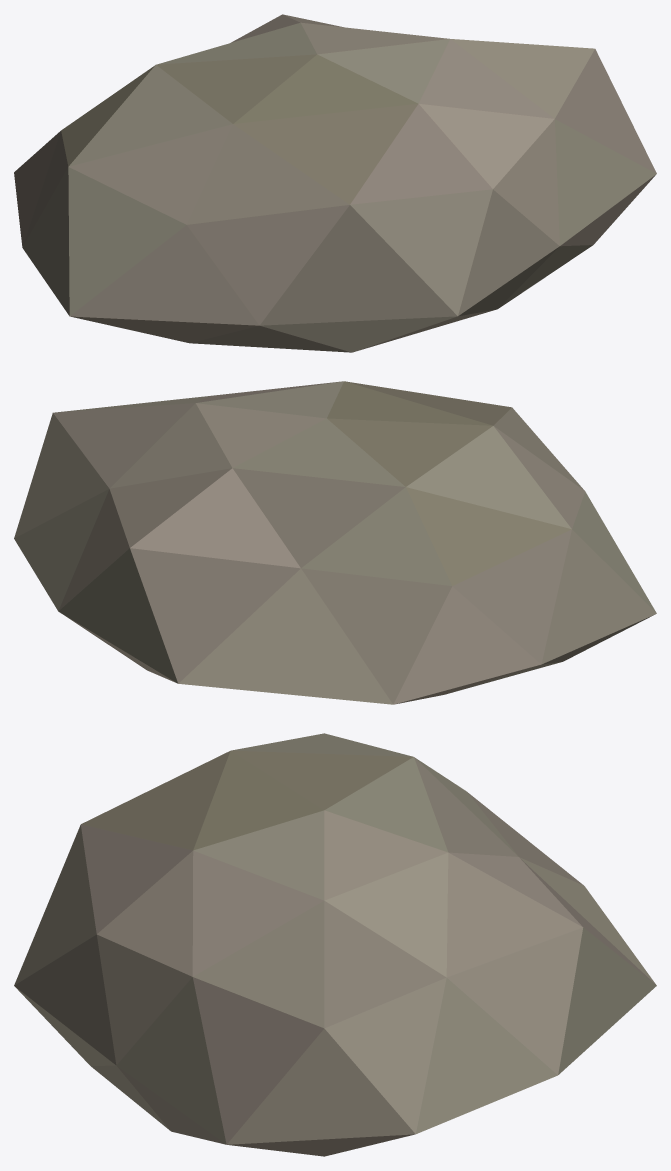
File: env_limestone_a.glb
The picture shows the model from 3 angles, top to bottom: view 1: azimuth 30°, elevation 25°; view 2: azimuth 150°, elevation 25°; view 3: azimuth 270°, elevation 25°; orthographic projection. The views are drawn at different scales.
Parts seen in each view (by area): view 1: env_limestone_a; view 2: env_limestone_a; view 3: env_limestone_a.
Boxes of the visible parts, x1,y1,x2,y2 form: env_limestone_a: (14,14,656,352); env_limestone_a: (14,381,656,704); env_limestone_a: (14,733,656,1156).
Bounding box in the file's own units: 3.26 × 1.19 × 2.8.
